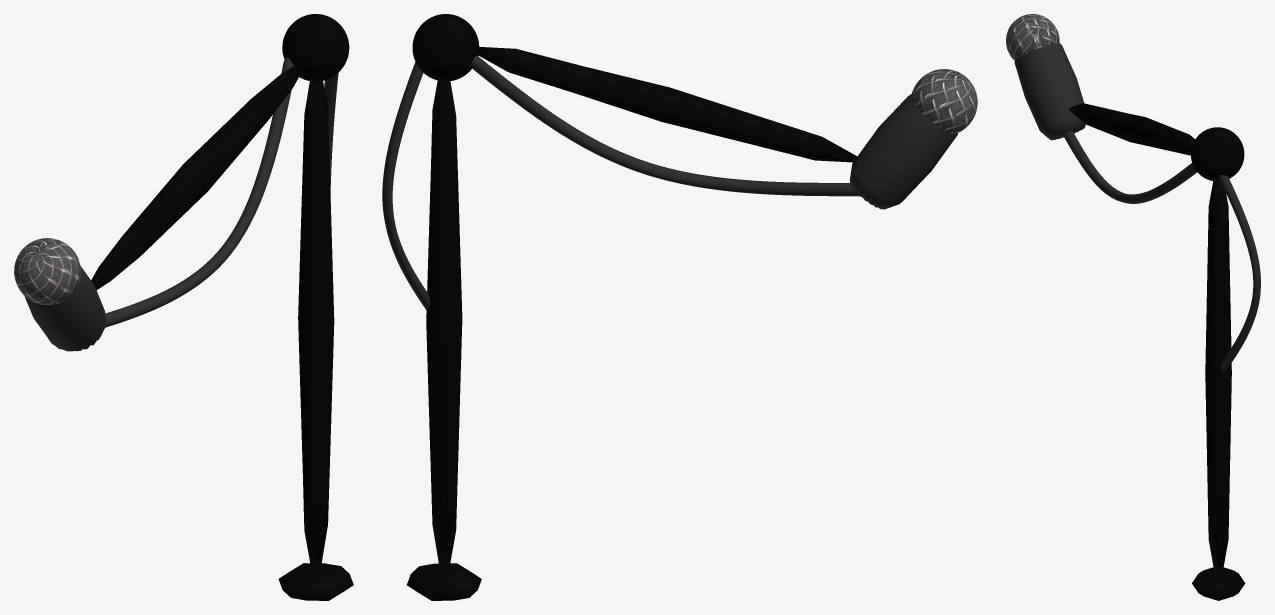
Rendered from Mic.fbx.
The picture shows the model from 3 angles, left to right: view 1: azimuth 30°, elevation 25°; view 2: azimuth 150°, elevation 25°; view 3: azimuth 270°, elevation 25°; orthographic projection. The views are drawn at different scales.
Visible parts, largest first — view 1: MicSupport1; view 2: MicSupport1; view 3: MicSupport1.
Part boxes in pixels (bbox=[...]): MicSupport1: bbox=[14, 14, 353, 600]; MicSupport1: bbox=[382, 14, 977, 600]; MicSupport1: bbox=[1006, 14, 1260, 600].
Bounding box in the file's own units: 3.82 × 4.69 × 2.33.
